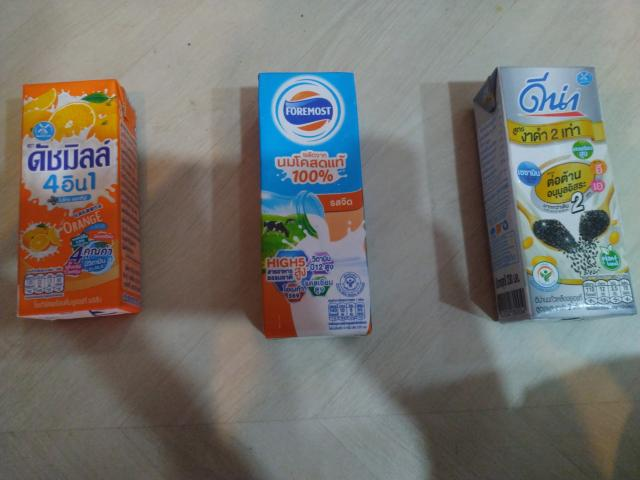drink_box: (466, 53, 639, 333), (246, 56, 389, 351), (13, 65, 156, 335)
